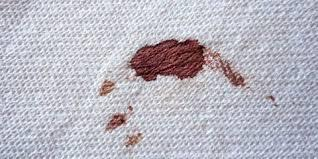blood: (130, 40, 210, 80), (106, 110, 129, 130)
